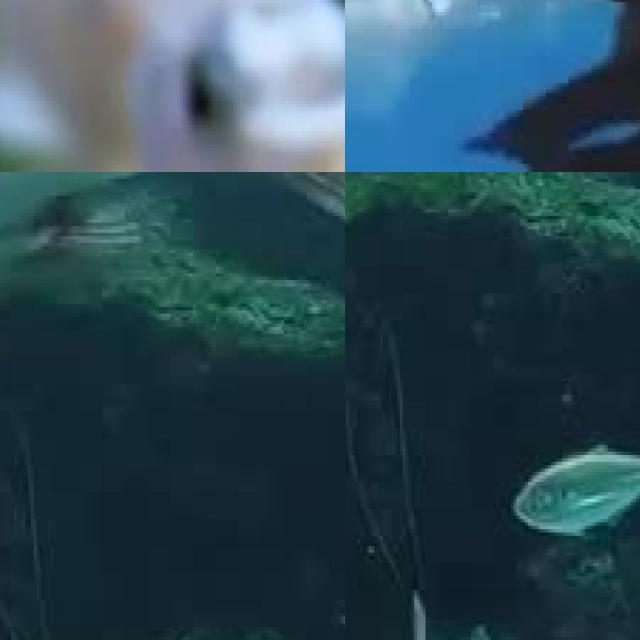fish: (0, 0, 345, 172), (374, 590, 607, 640)
